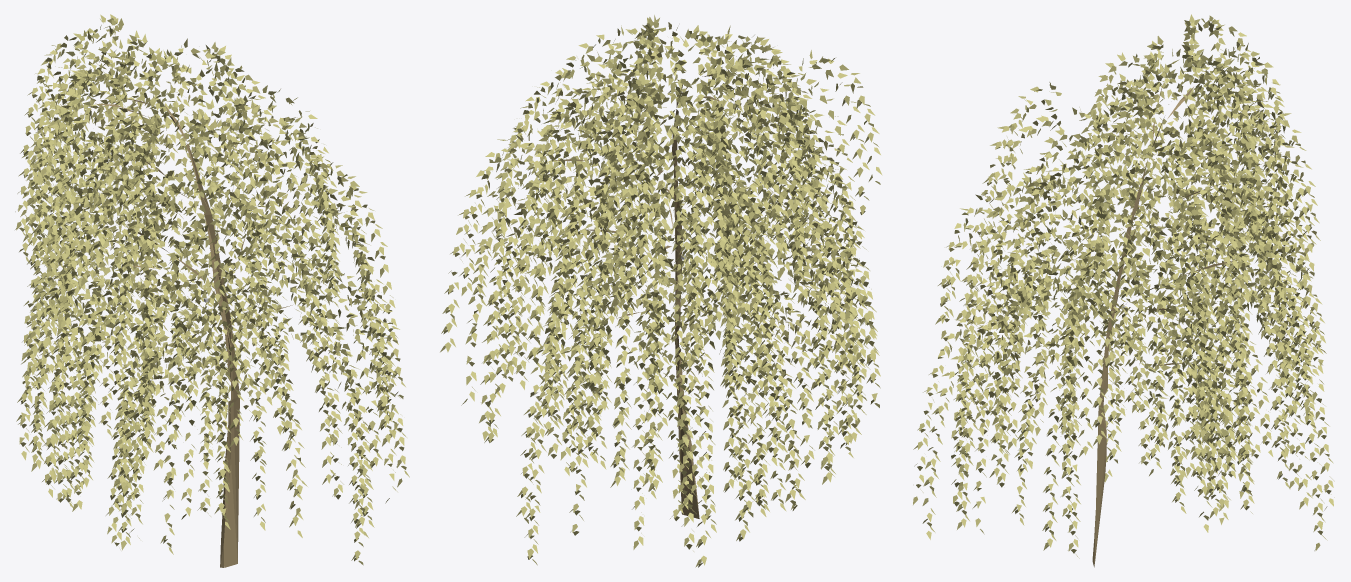
Rendered from willow.dae.
3 views of the same model, side by side, from view 1: azimuth 30°, elevation 25°; view 2: azimuth 150°, elevation 25°; view 3: azimuth 270°, elevation 25° (orthographic). The views are drawn at different scales.
Parts seen in each view (by area): view 1: Foliage01; view 2: Foliage01; view 3: Foliage01.
Part boxes in pixels (box(x1,y1,x2,y2)): Foliage01: box(15, 14, 409, 567); Foliage01: box(440, 15, 882, 567); Foliage01: box(913, 14, 1334, 567).
Bounding box in the file's own units: 244 × 265 × 346.
